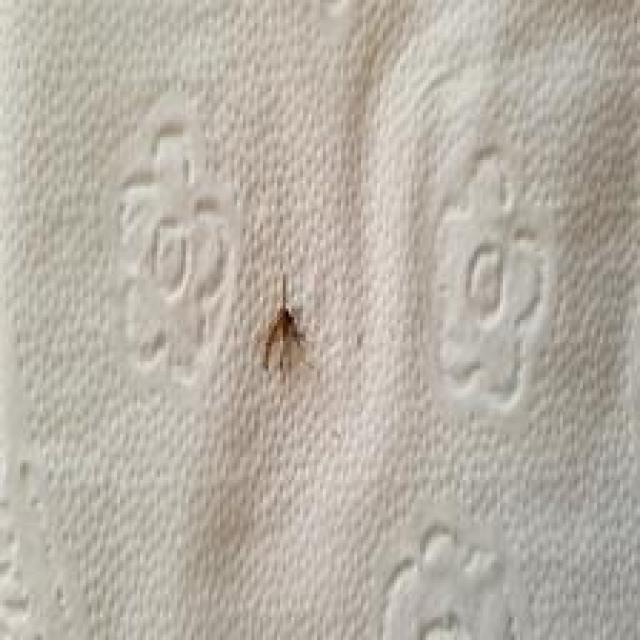Culex: (259, 272, 307, 377)
